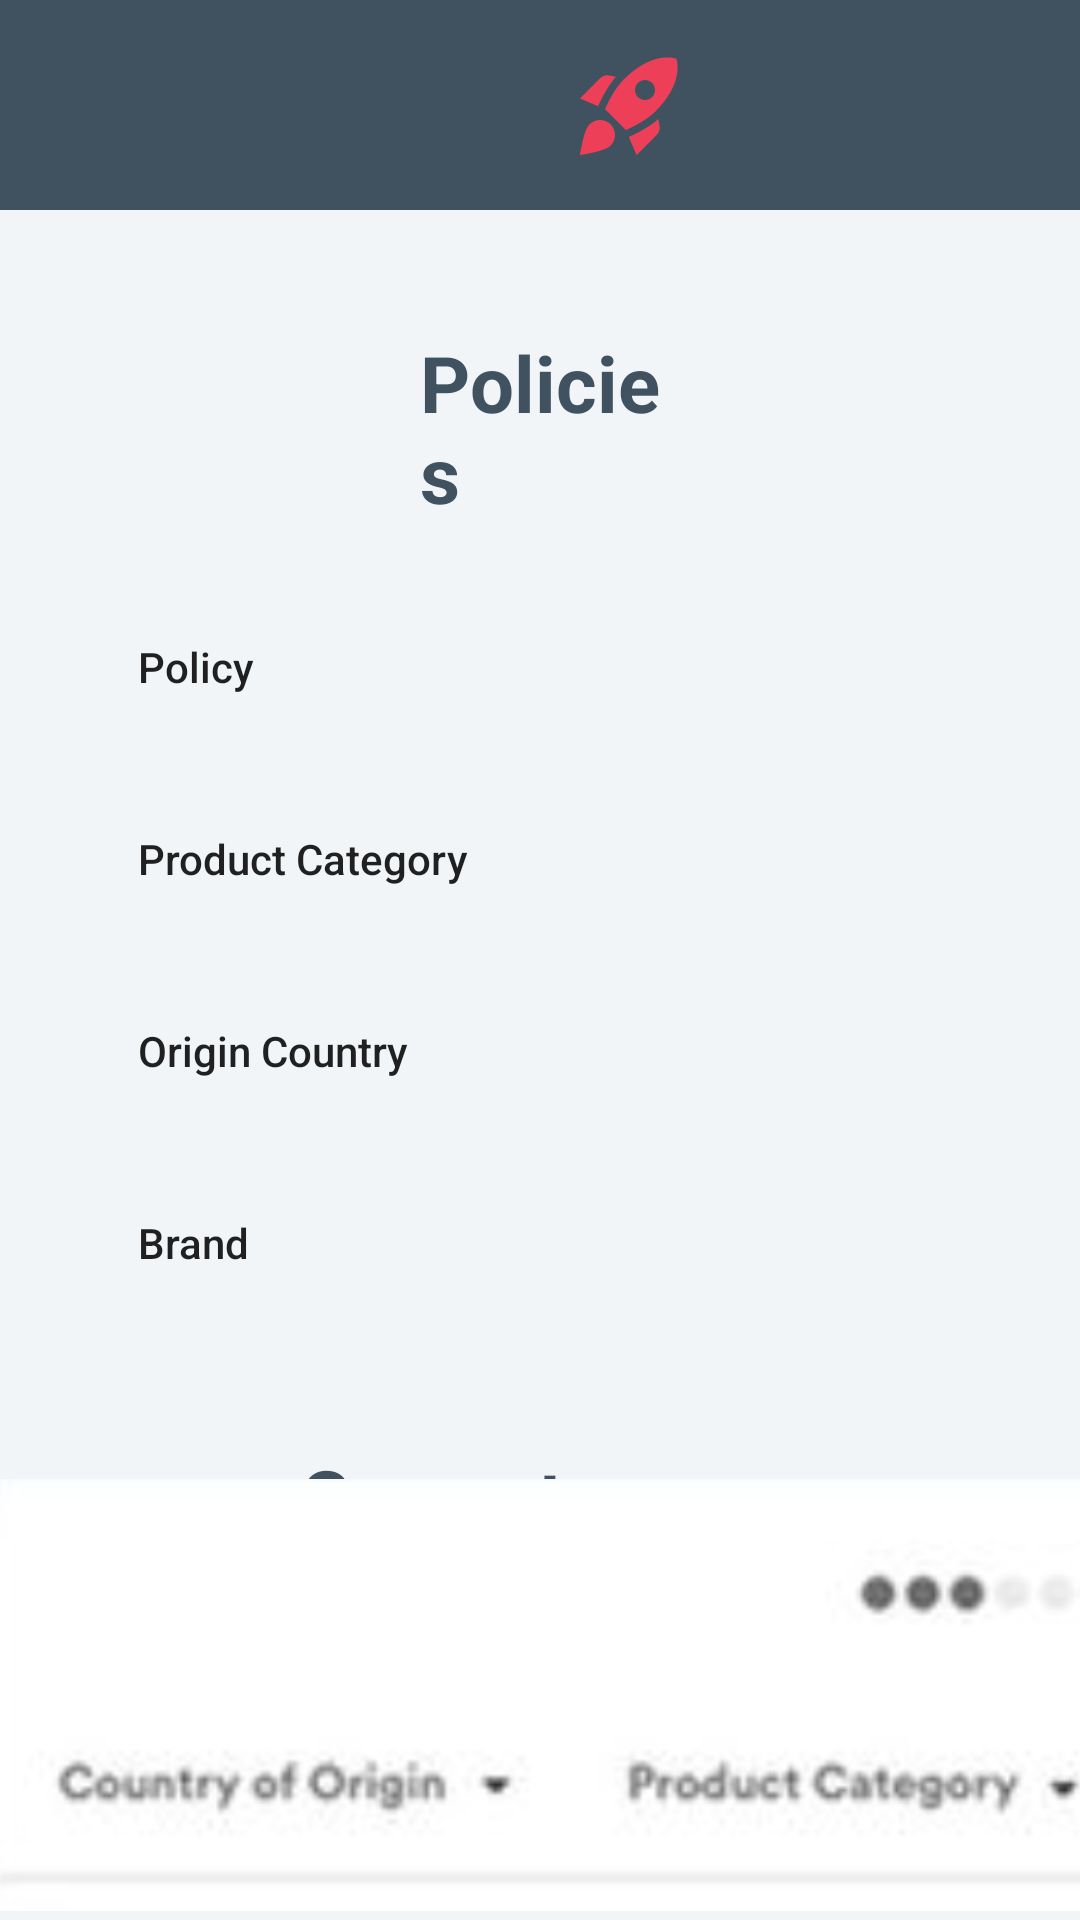

Icon bounding boxes for this 1080*1920 phone screenshot, format (x1, y1, x2, y2):
rocket: (580, 57, 678, 155)
